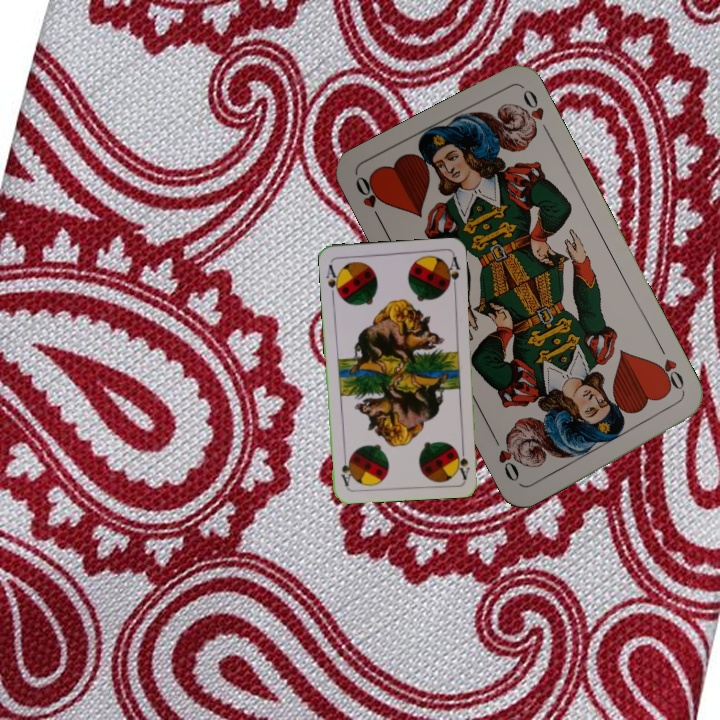HO: (650, 342, 688, 397), (351, 172, 387, 228)
SA: (322, 260, 343, 300), (453, 441, 472, 481)
